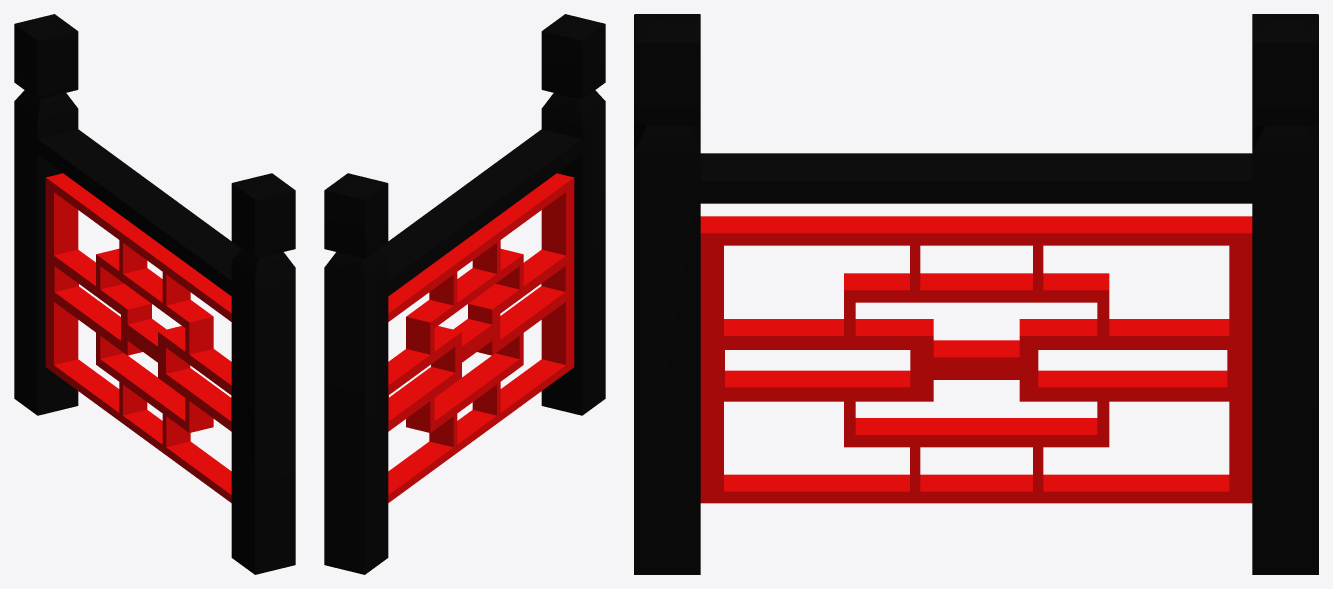
The model's file is chinese_railing.FBX.
3 renders of one model, left to right at view 1: azimuth 30°, elevation 25°; view 2: azimuth 150°, elevation 25°; view 3: azimuth 270°, elevation 25°, orthographic. The views are drawn at different scales.
Parts seen in each view (by area): view 1: Box001; view 2: Box001; view 3: Box001.
Part boxes in pixels (box(x1,y1,x2,y2)): Box001: box(14, 14, 295, 574); Box001: box(324, 14, 605, 574); Box001: box(634, 14, 1318, 574).
Bounding box in the file's own units: 5 × 44.16 × 51.39.
